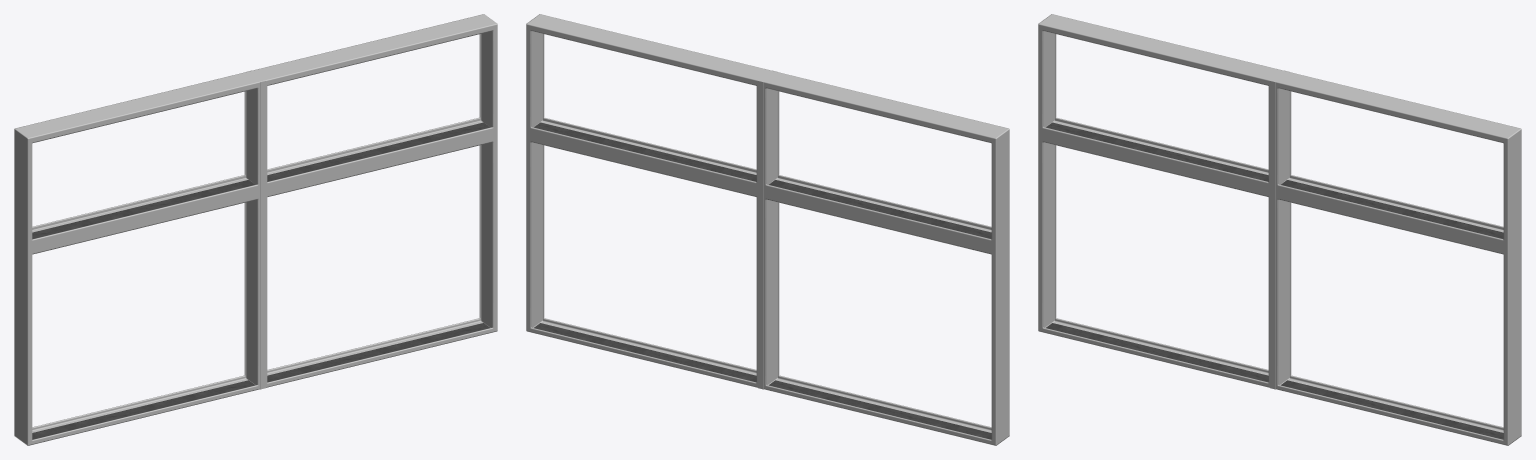
The model's file is Windows_06_Frame_Snaps014.FBX.
3 renders of one model, left to right at view 1: azimuth 30°, elevation 25°; view 2: azimuth 150°, elevation 25°; view 3: azimuth 330°, elevation 25°, orthographic.
Parts seen in each view (by area): view 1: Windows_06_Frame_LOD00; view 2: Windows_06_Frame_LOD00; view 3: Windows_06_Frame_LOD00.
Part boxes in pixels (x1=…): Windows_06_Frame_LOD00: x1=14, y1=14, x2=497, y2=445; Windows_06_Frame_LOD00: x1=526, y1=14, x2=1009, y2=445; Windows_06_Frame_LOD00: x1=1038, y1=14, x2=1521, y2=445.
Size of what is drawn, in the model's own units: 400 by 250 by 21.
